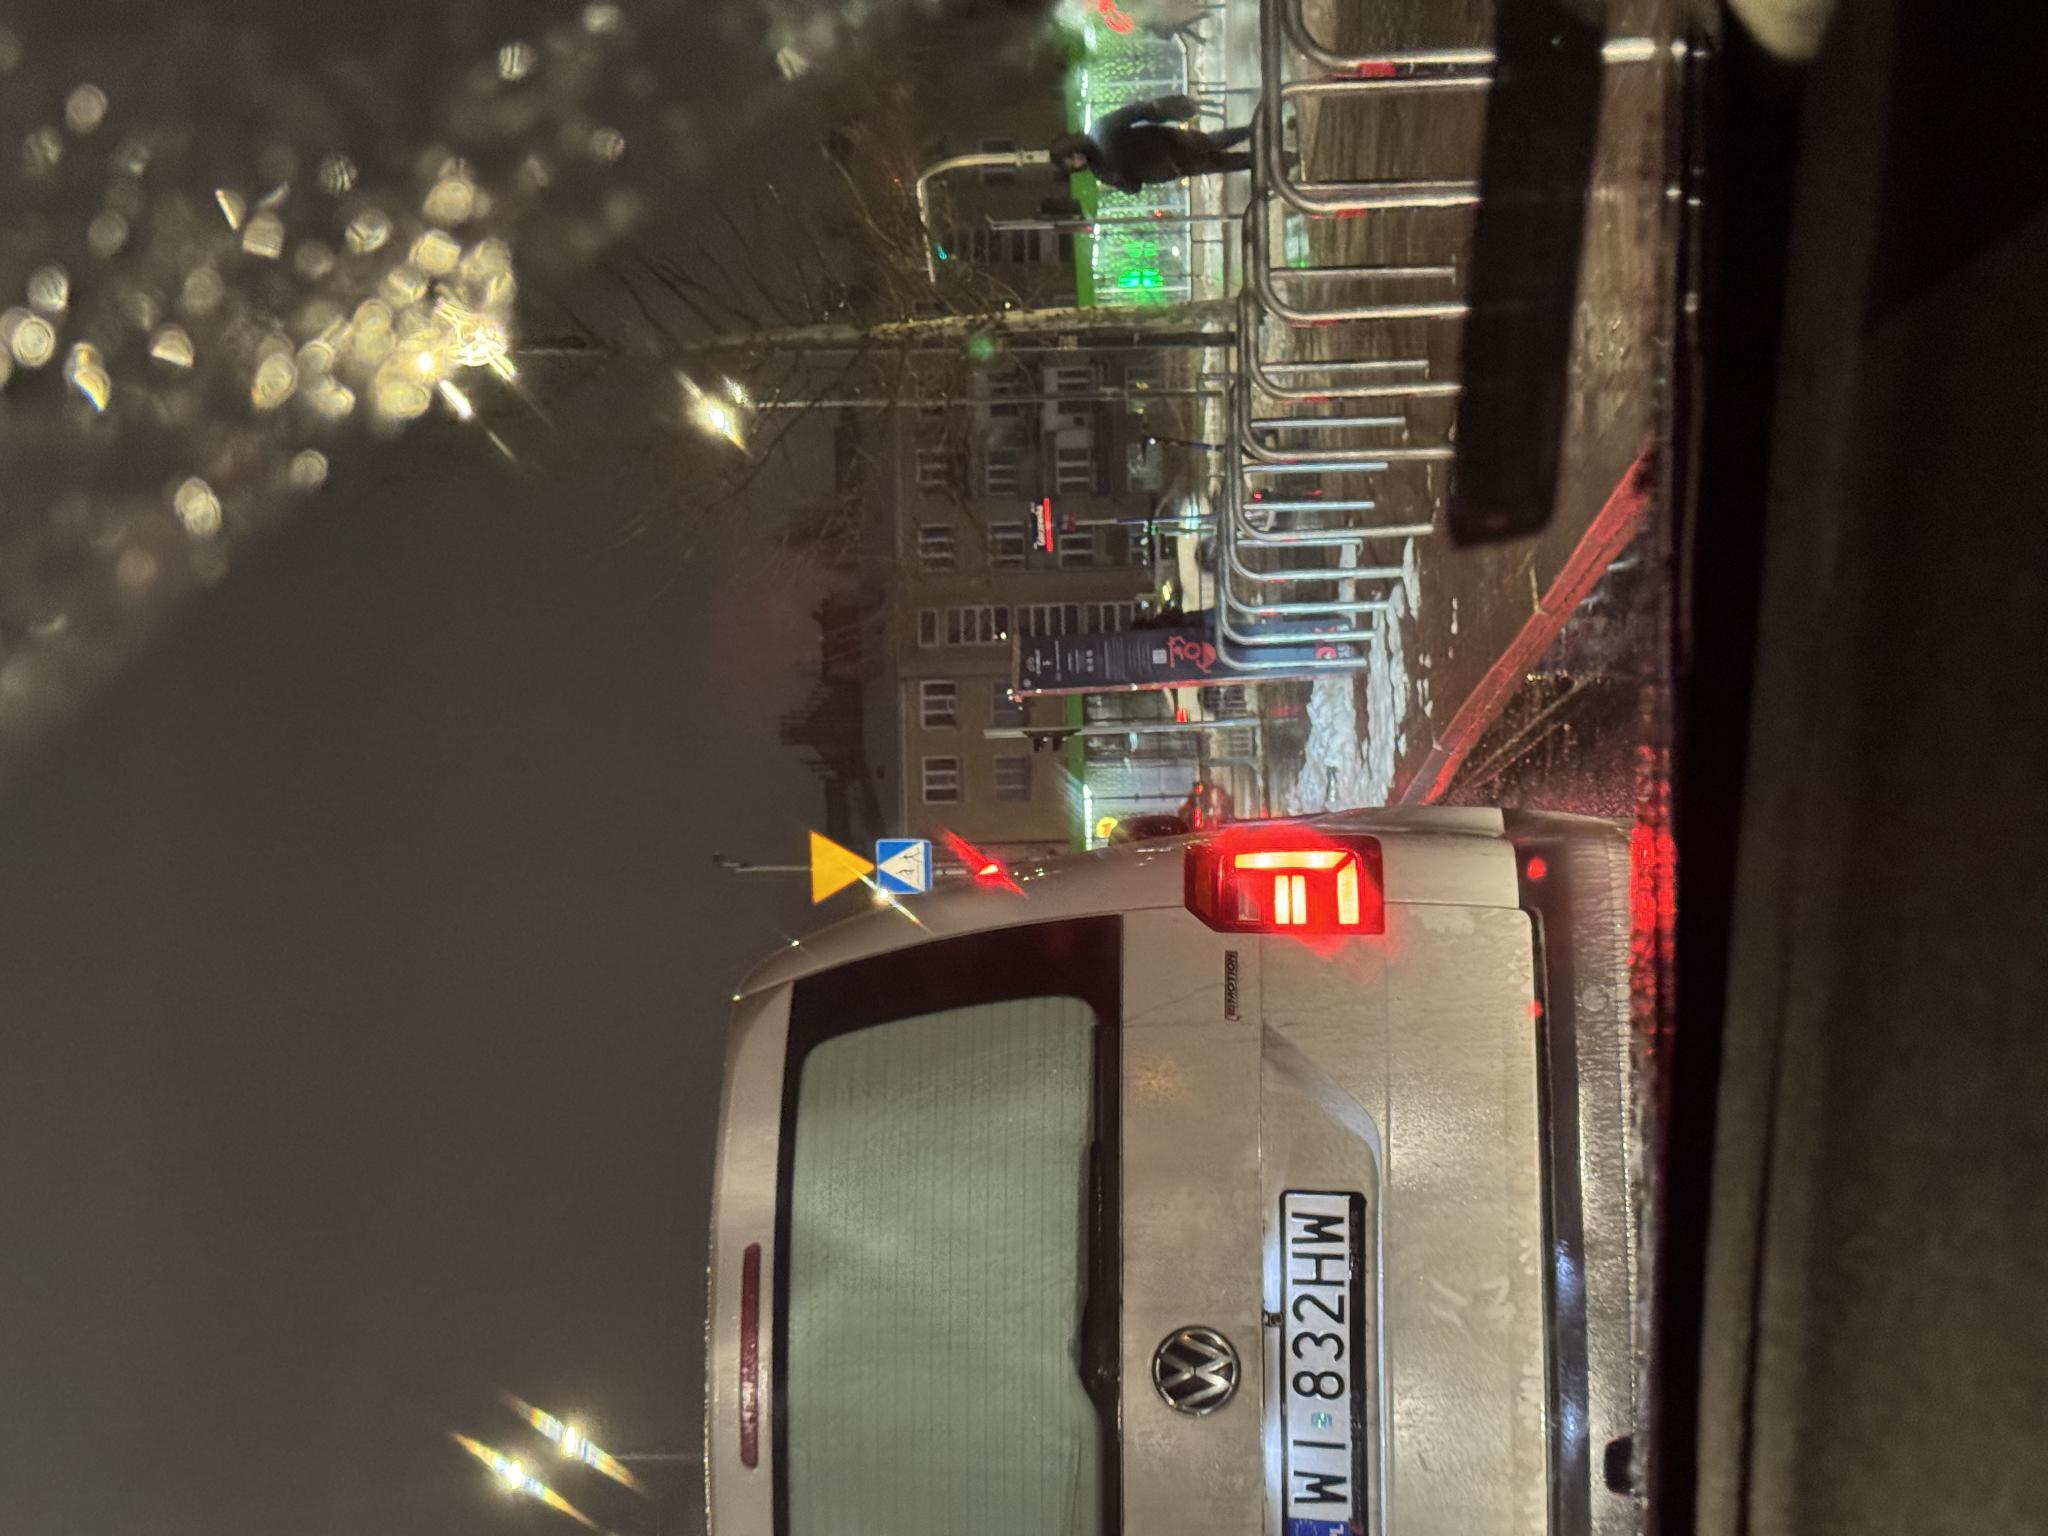information: (642, 874, 700, 934)
warning: (631, 808, 705, 878)
